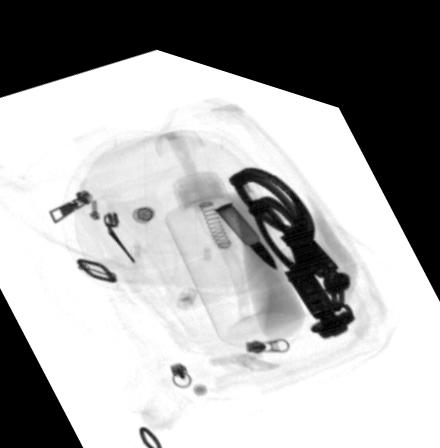Bullet: (213, 186, 278, 253)
HandCuffs: (228, 149, 361, 320)
